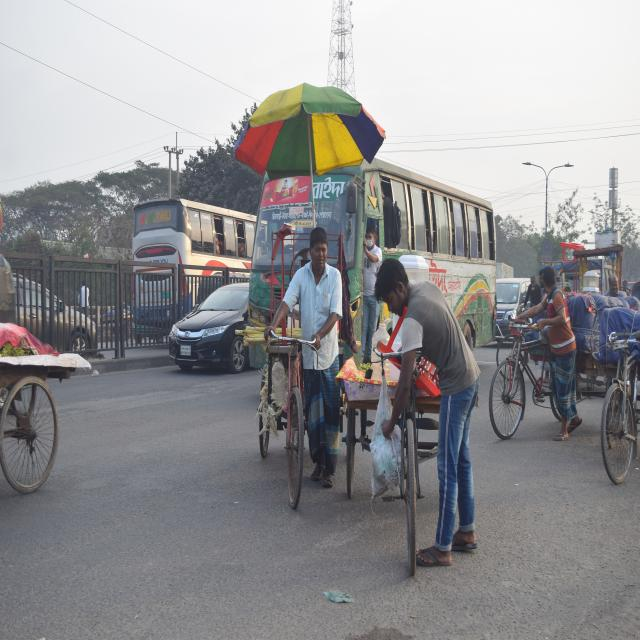bus: (254, 165, 493, 351), (127, 190, 255, 298)
car: (167, 276, 251, 370), (17, 266, 97, 351)
microbus: (499, 270, 529, 350)
